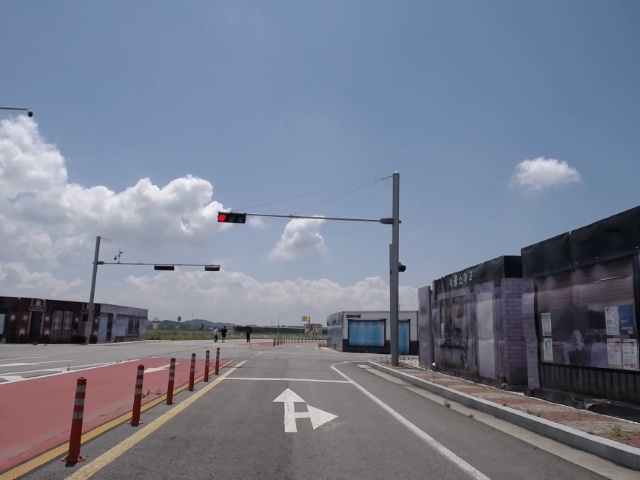red_3: (216, 212, 247, 225)
